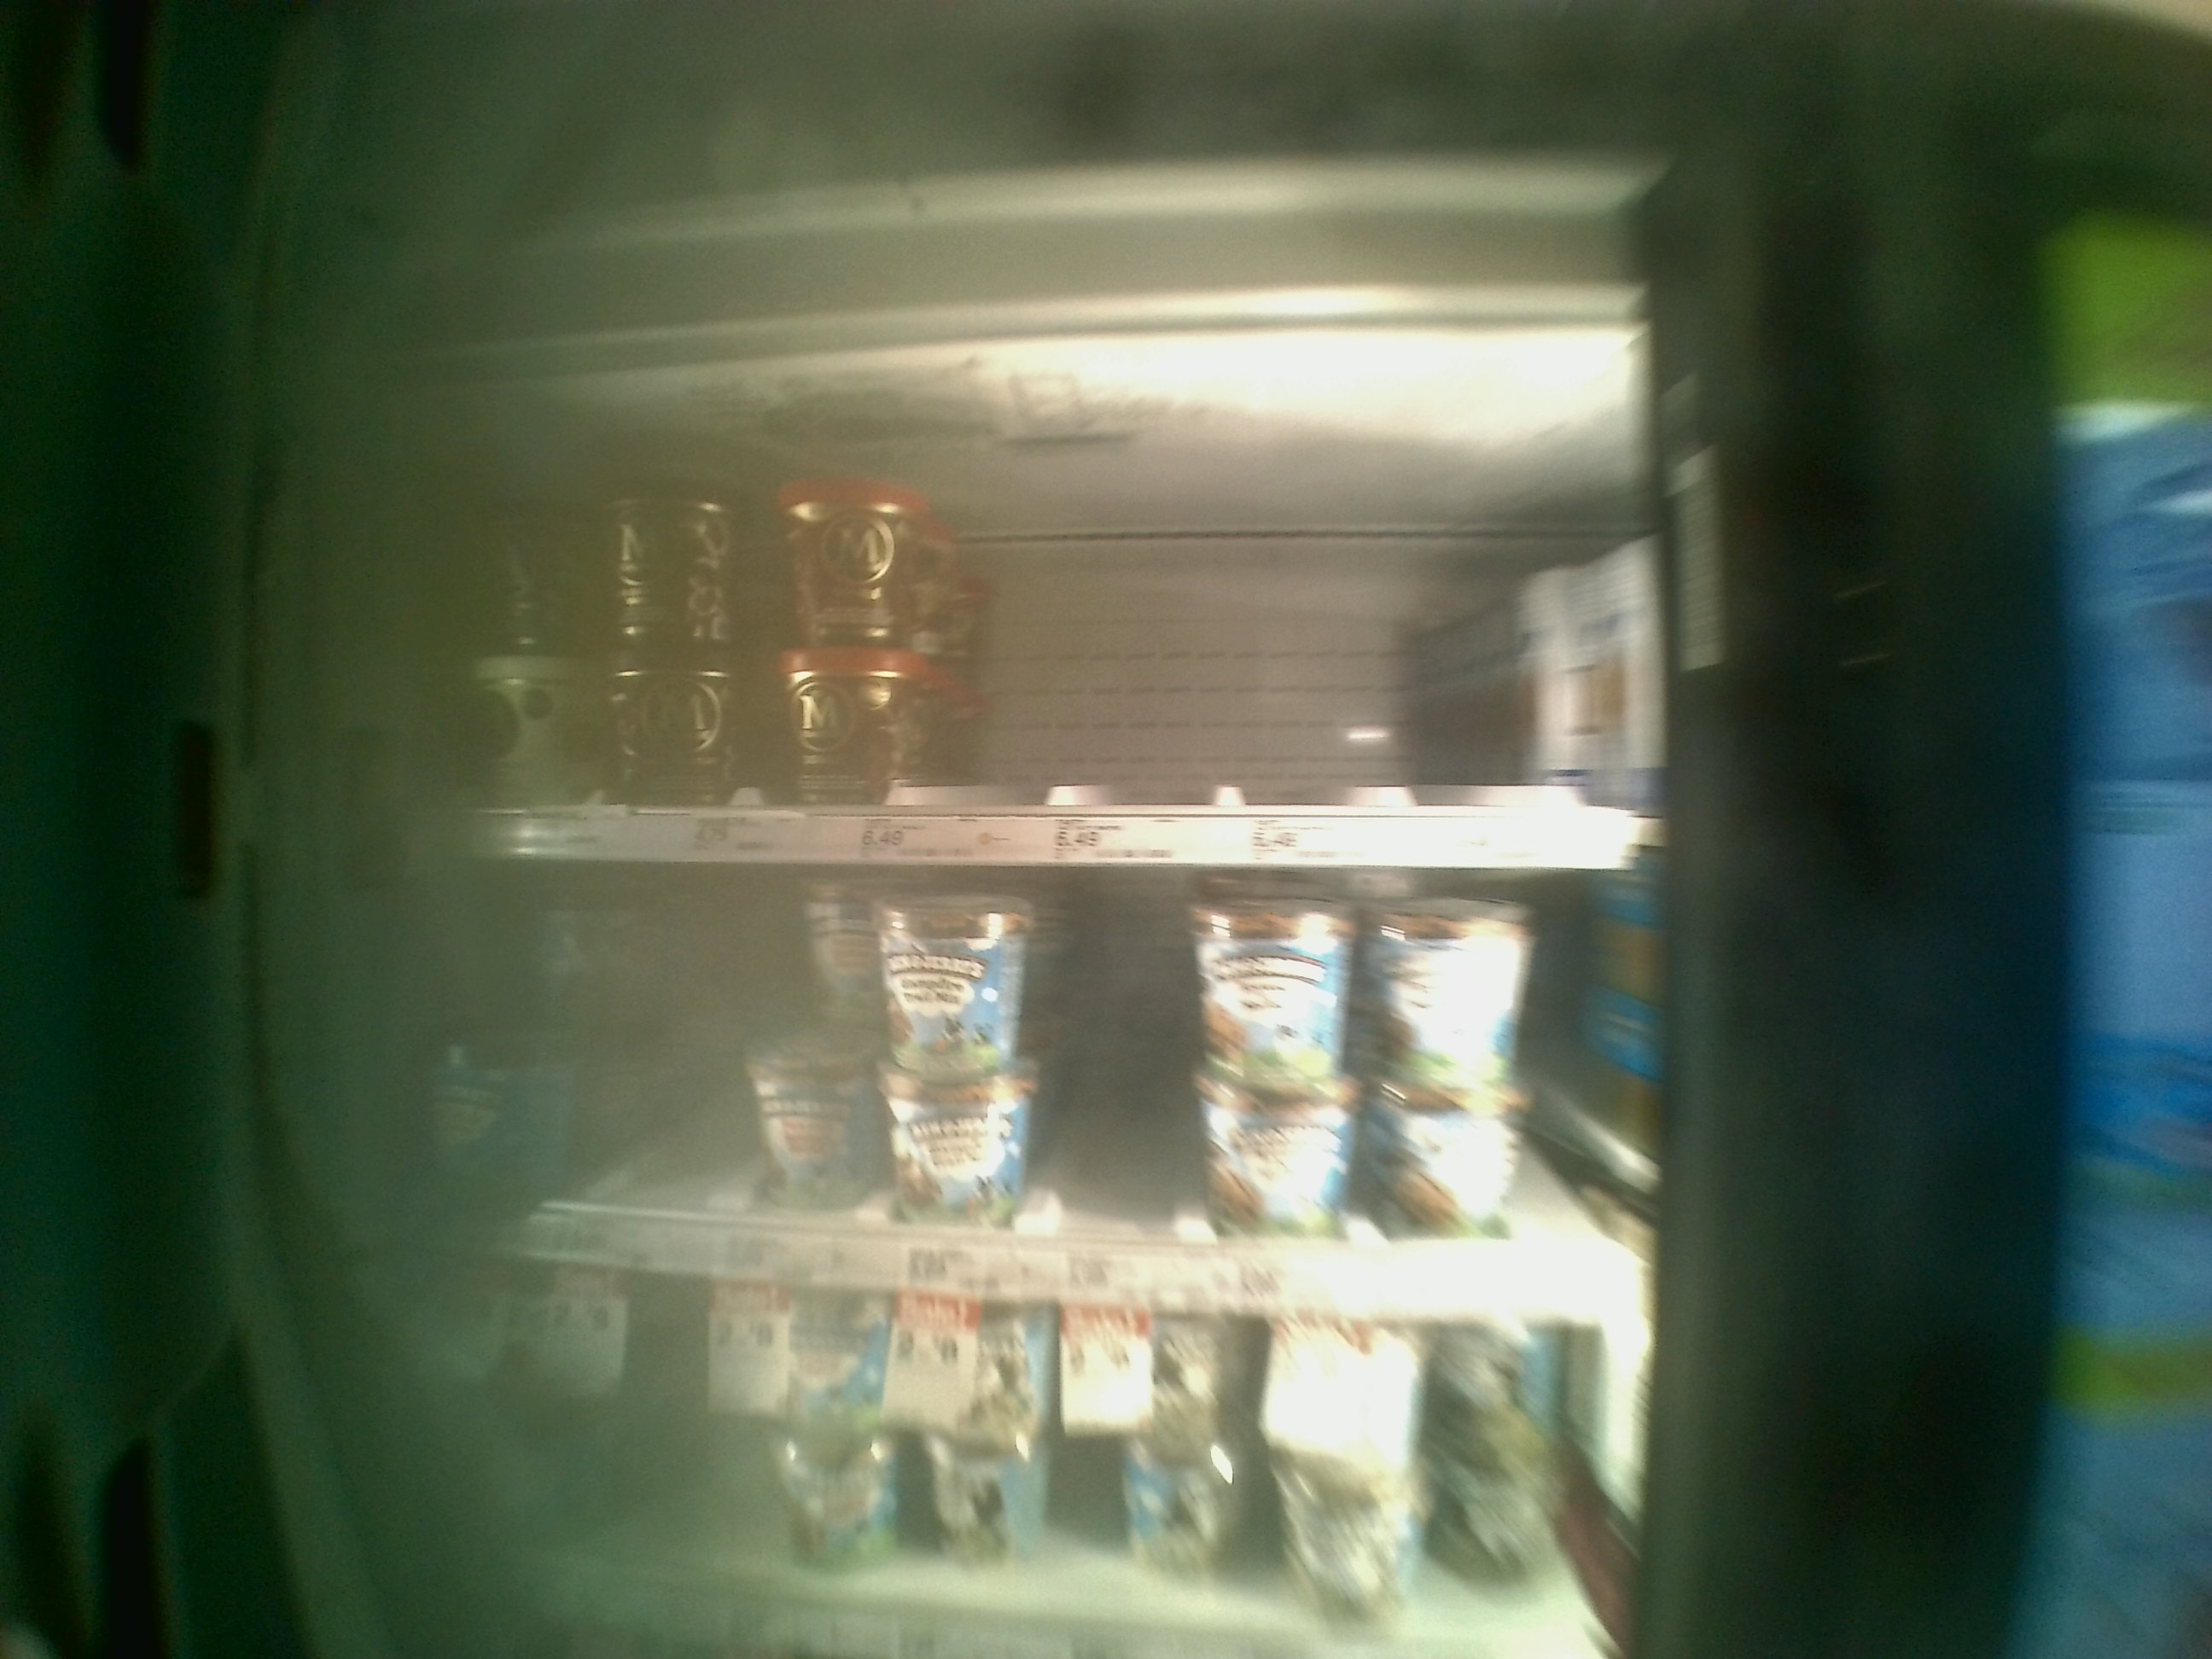shelf: (387, 859, 1655, 1316), (388, 415, 1641, 868)
